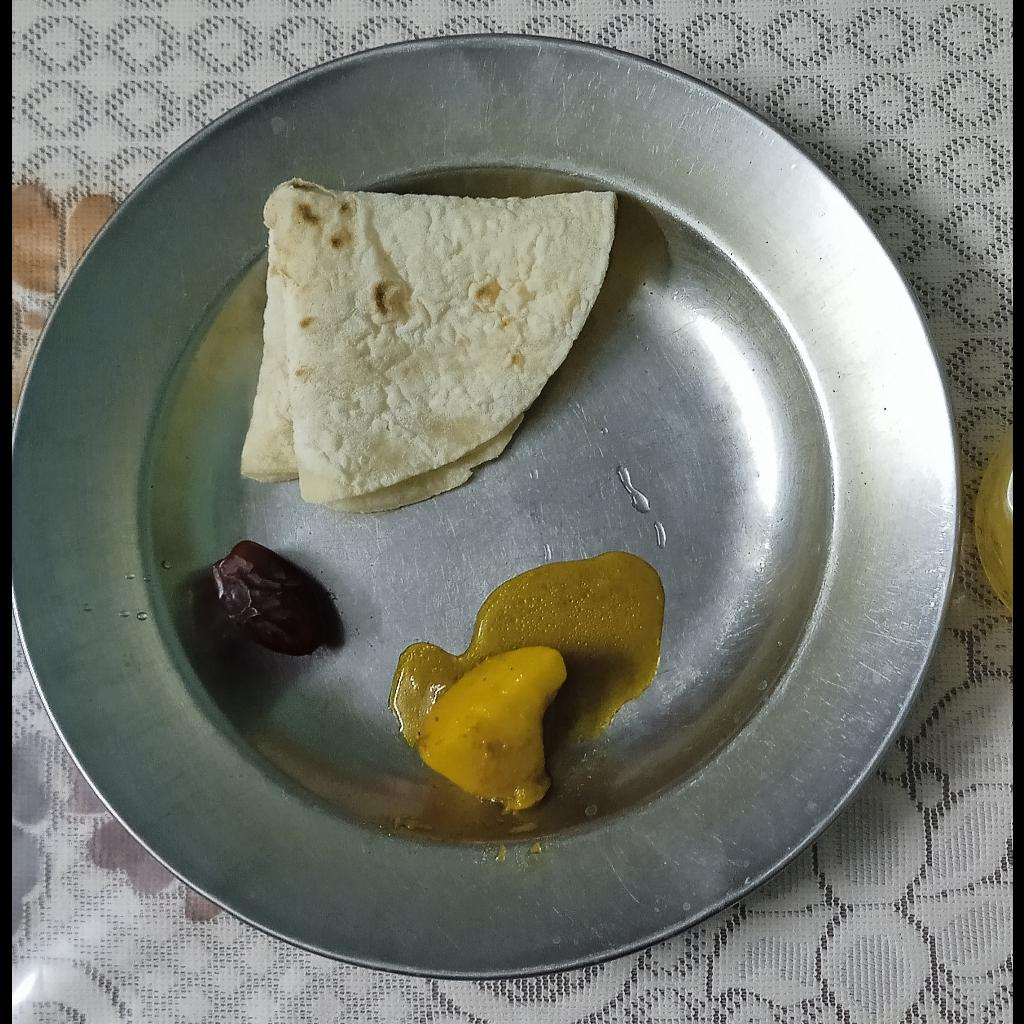dates: (212, 538, 344, 660)
potato: (418, 647, 569, 808)
ruti: (240, 185, 614, 517)
